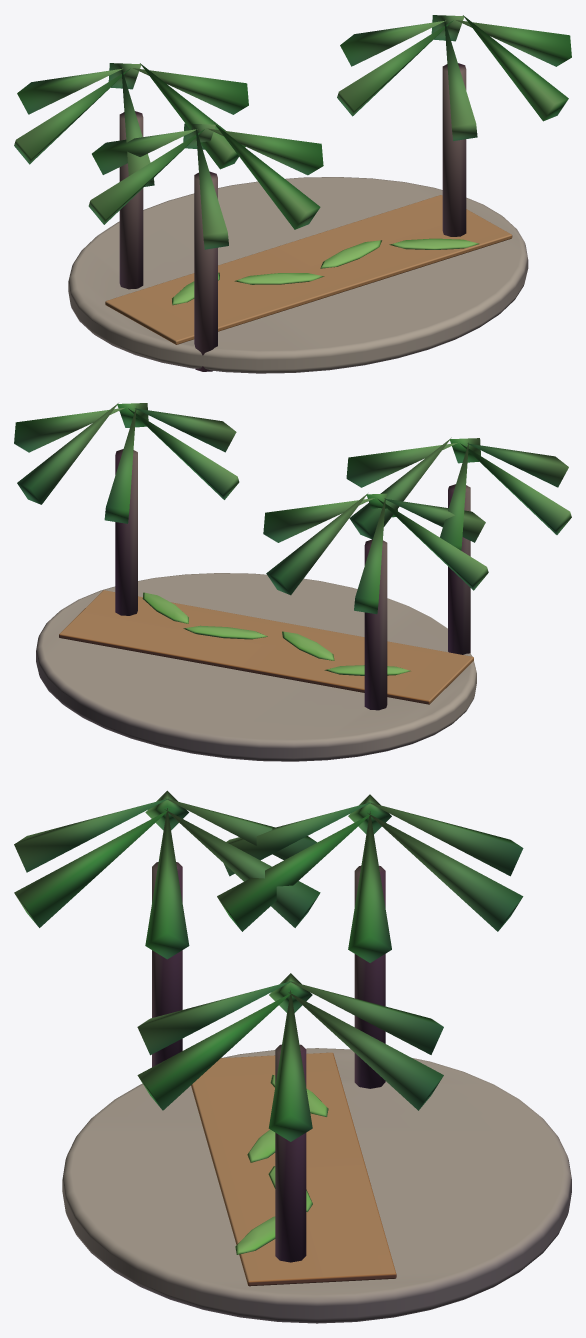
The model's file is entry.glb.
3 views of the same model, one above another, from view 1: azimuth 30°, elevation 25°; view 2: azimuth 150°, elevation 25°; view 3: azimuth 270°, elevation 25° (orthographic). The views are drawn at different scales.
Visible parts, largest first — view 1: entry; view 2: entry; view 3: entry.
Part boxes in pixels (left/top/right/bottom): entry: left=14, top=15, right=571, bottom=373; entry: left=14, top=403, right=571, bottom=761; entry: left=14, top=790, right=571, bottom=1323.
Size of the model in its own units: 6.8 by 2.96 by 4.94.
